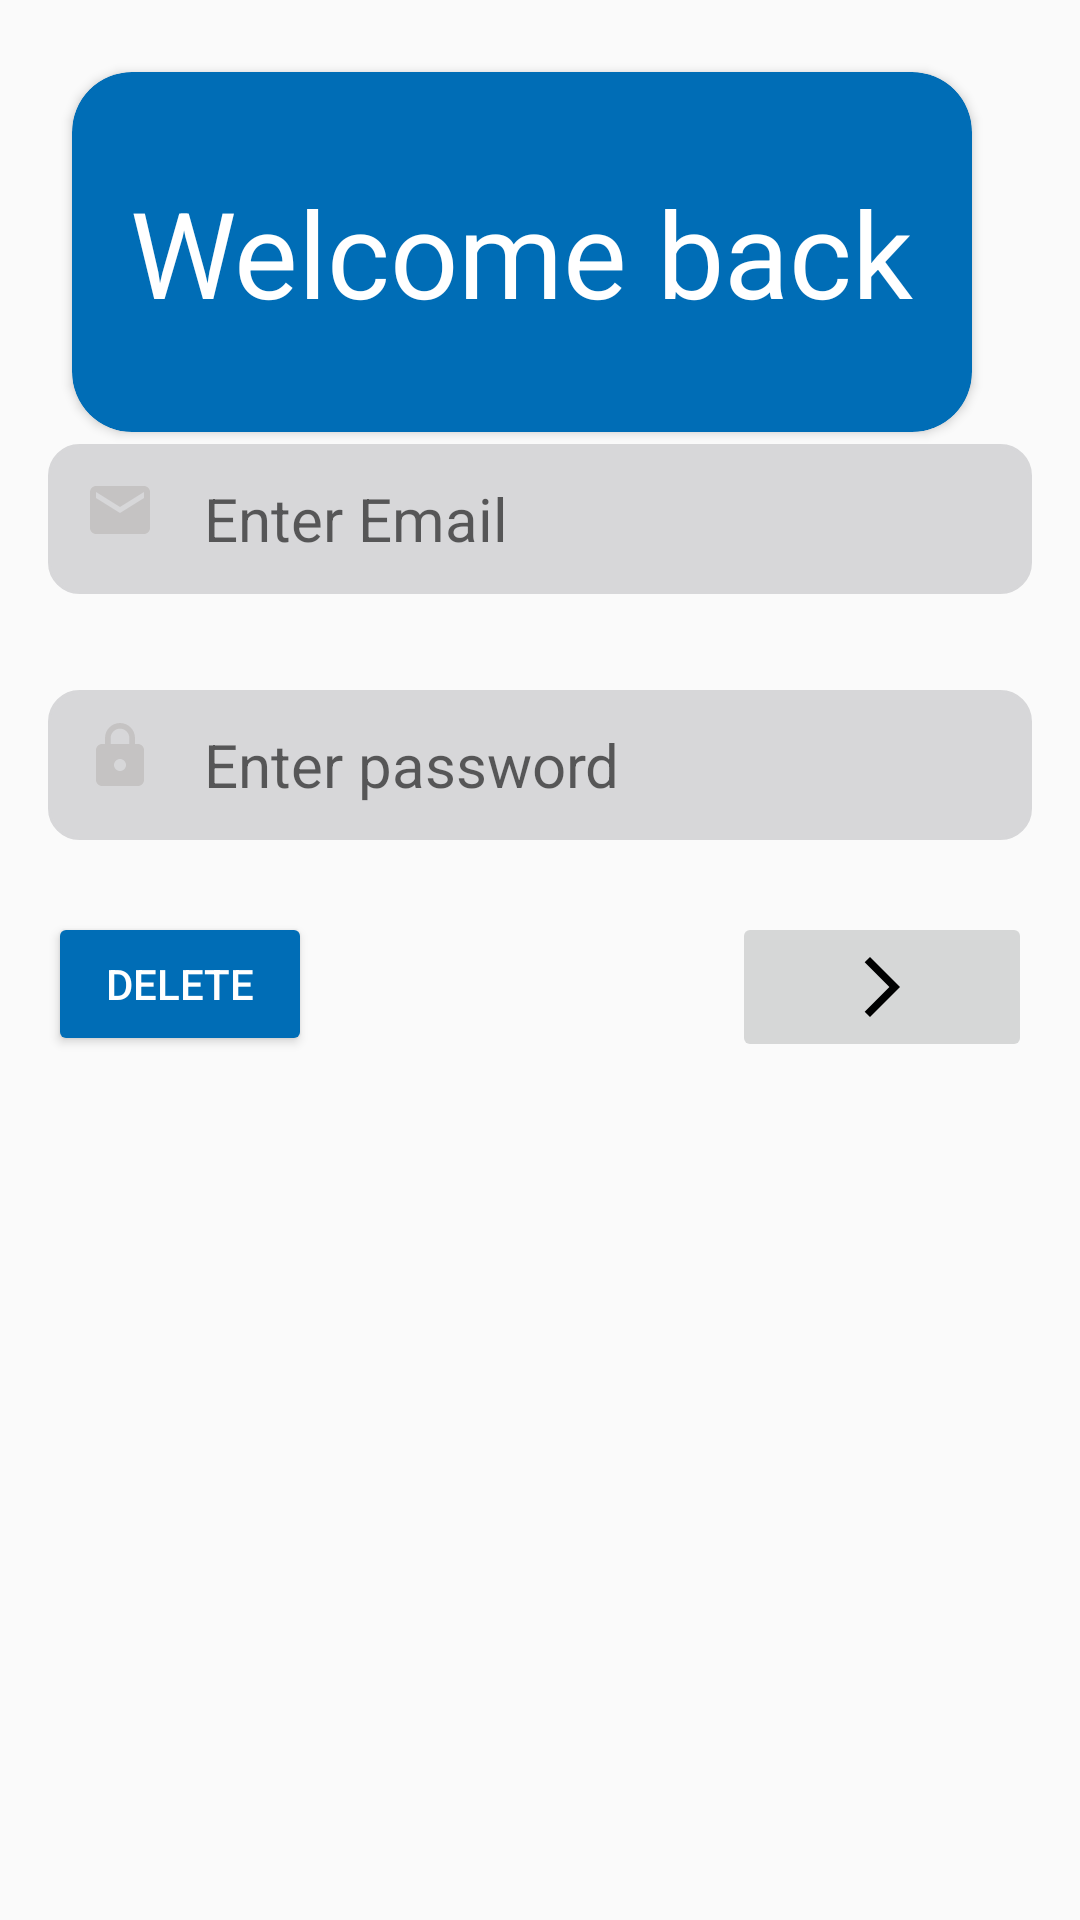

Where to tap for icons on this 1080 x 1920 app screen, as (x,y):
next: (882,987)
